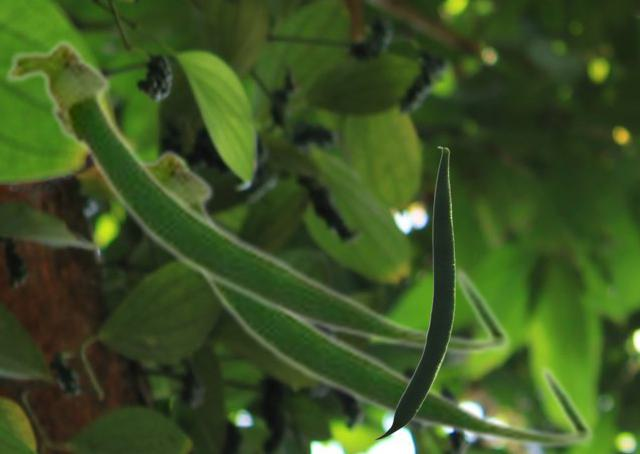french_bean: (2, 35, 512, 357), (143, 145, 595, 450), (373, 146, 454, 439)
